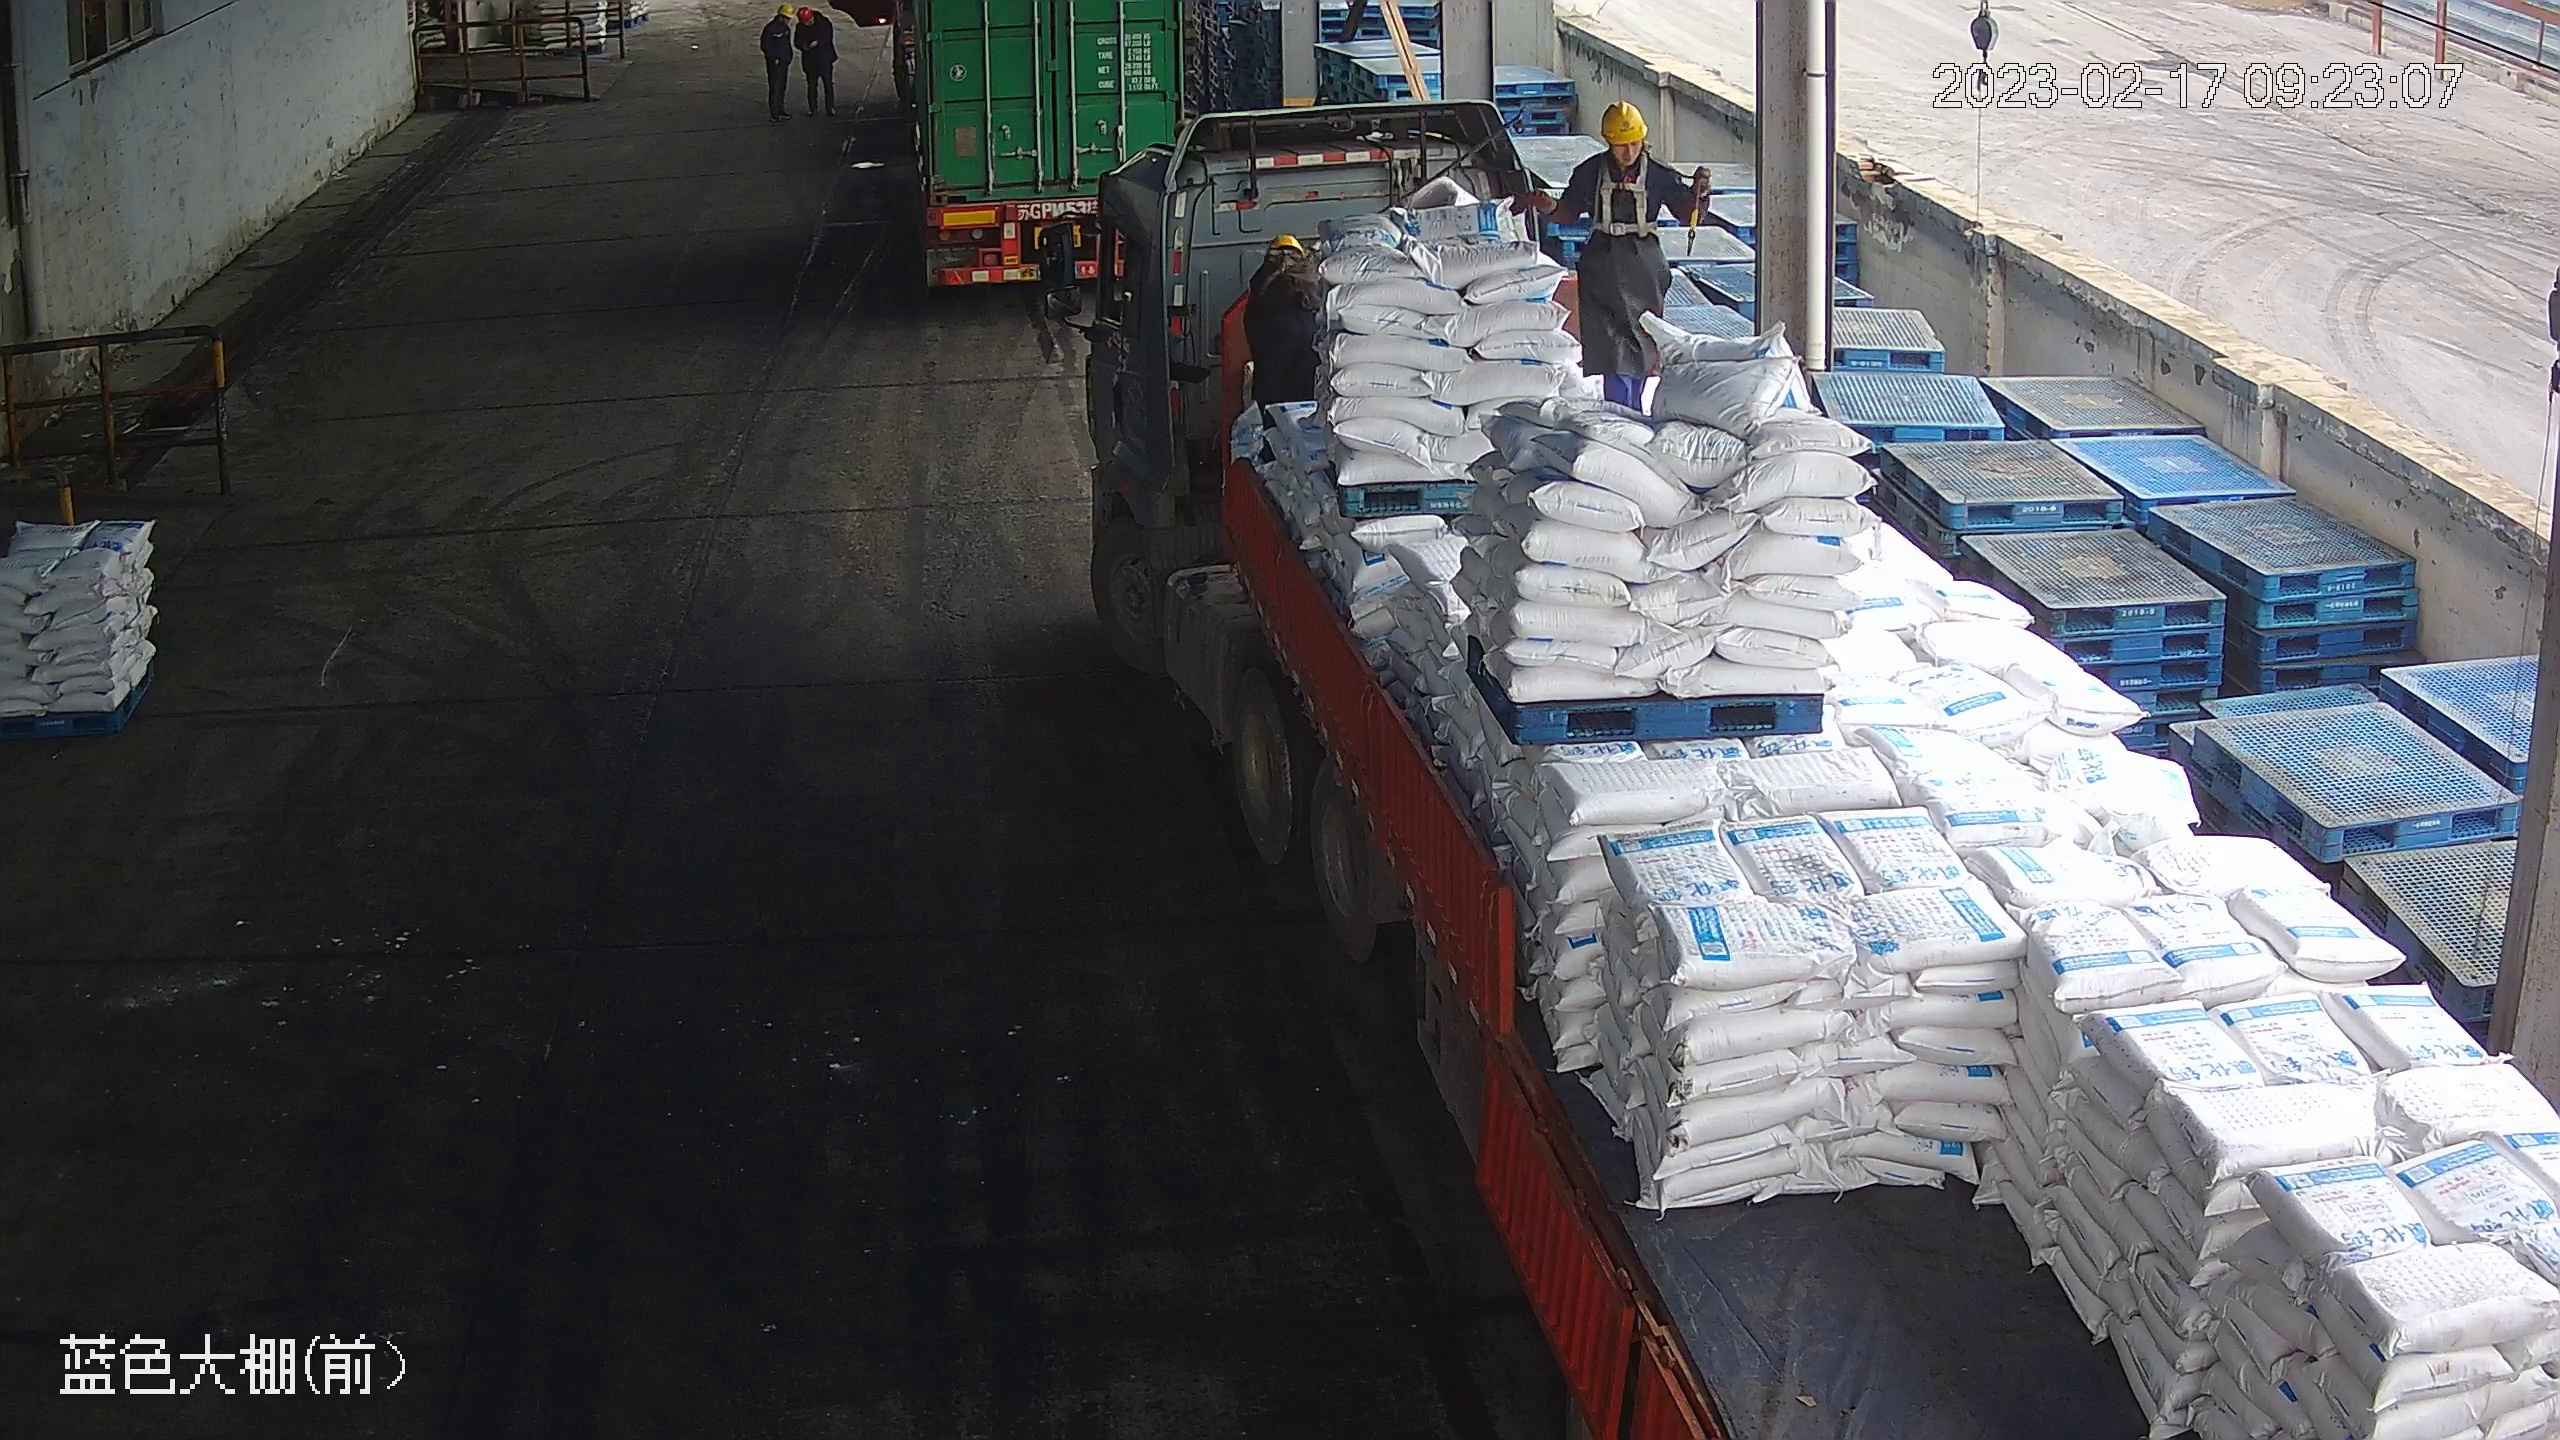belt: (1586, 160, 1662, 240)
head: (1574, 99, 1672, 199), (1247, 232, 1319, 290)
helmet: (1598, 100, 1650, 144), (1268, 233, 1307, 261)
people: (1527, 100, 1707, 418), (1241, 232, 1334, 425)
truck: (1036, 101, 2557, 1437), (892, 1, 1179, 292)
